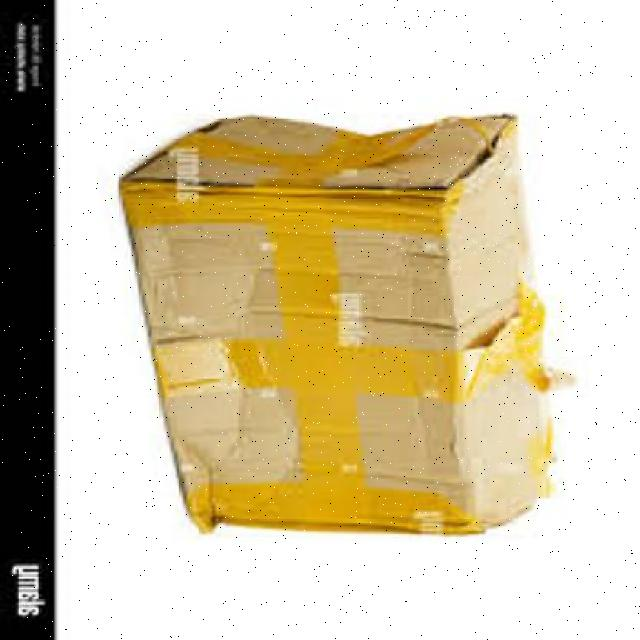defect: (112, 95, 554, 543)
